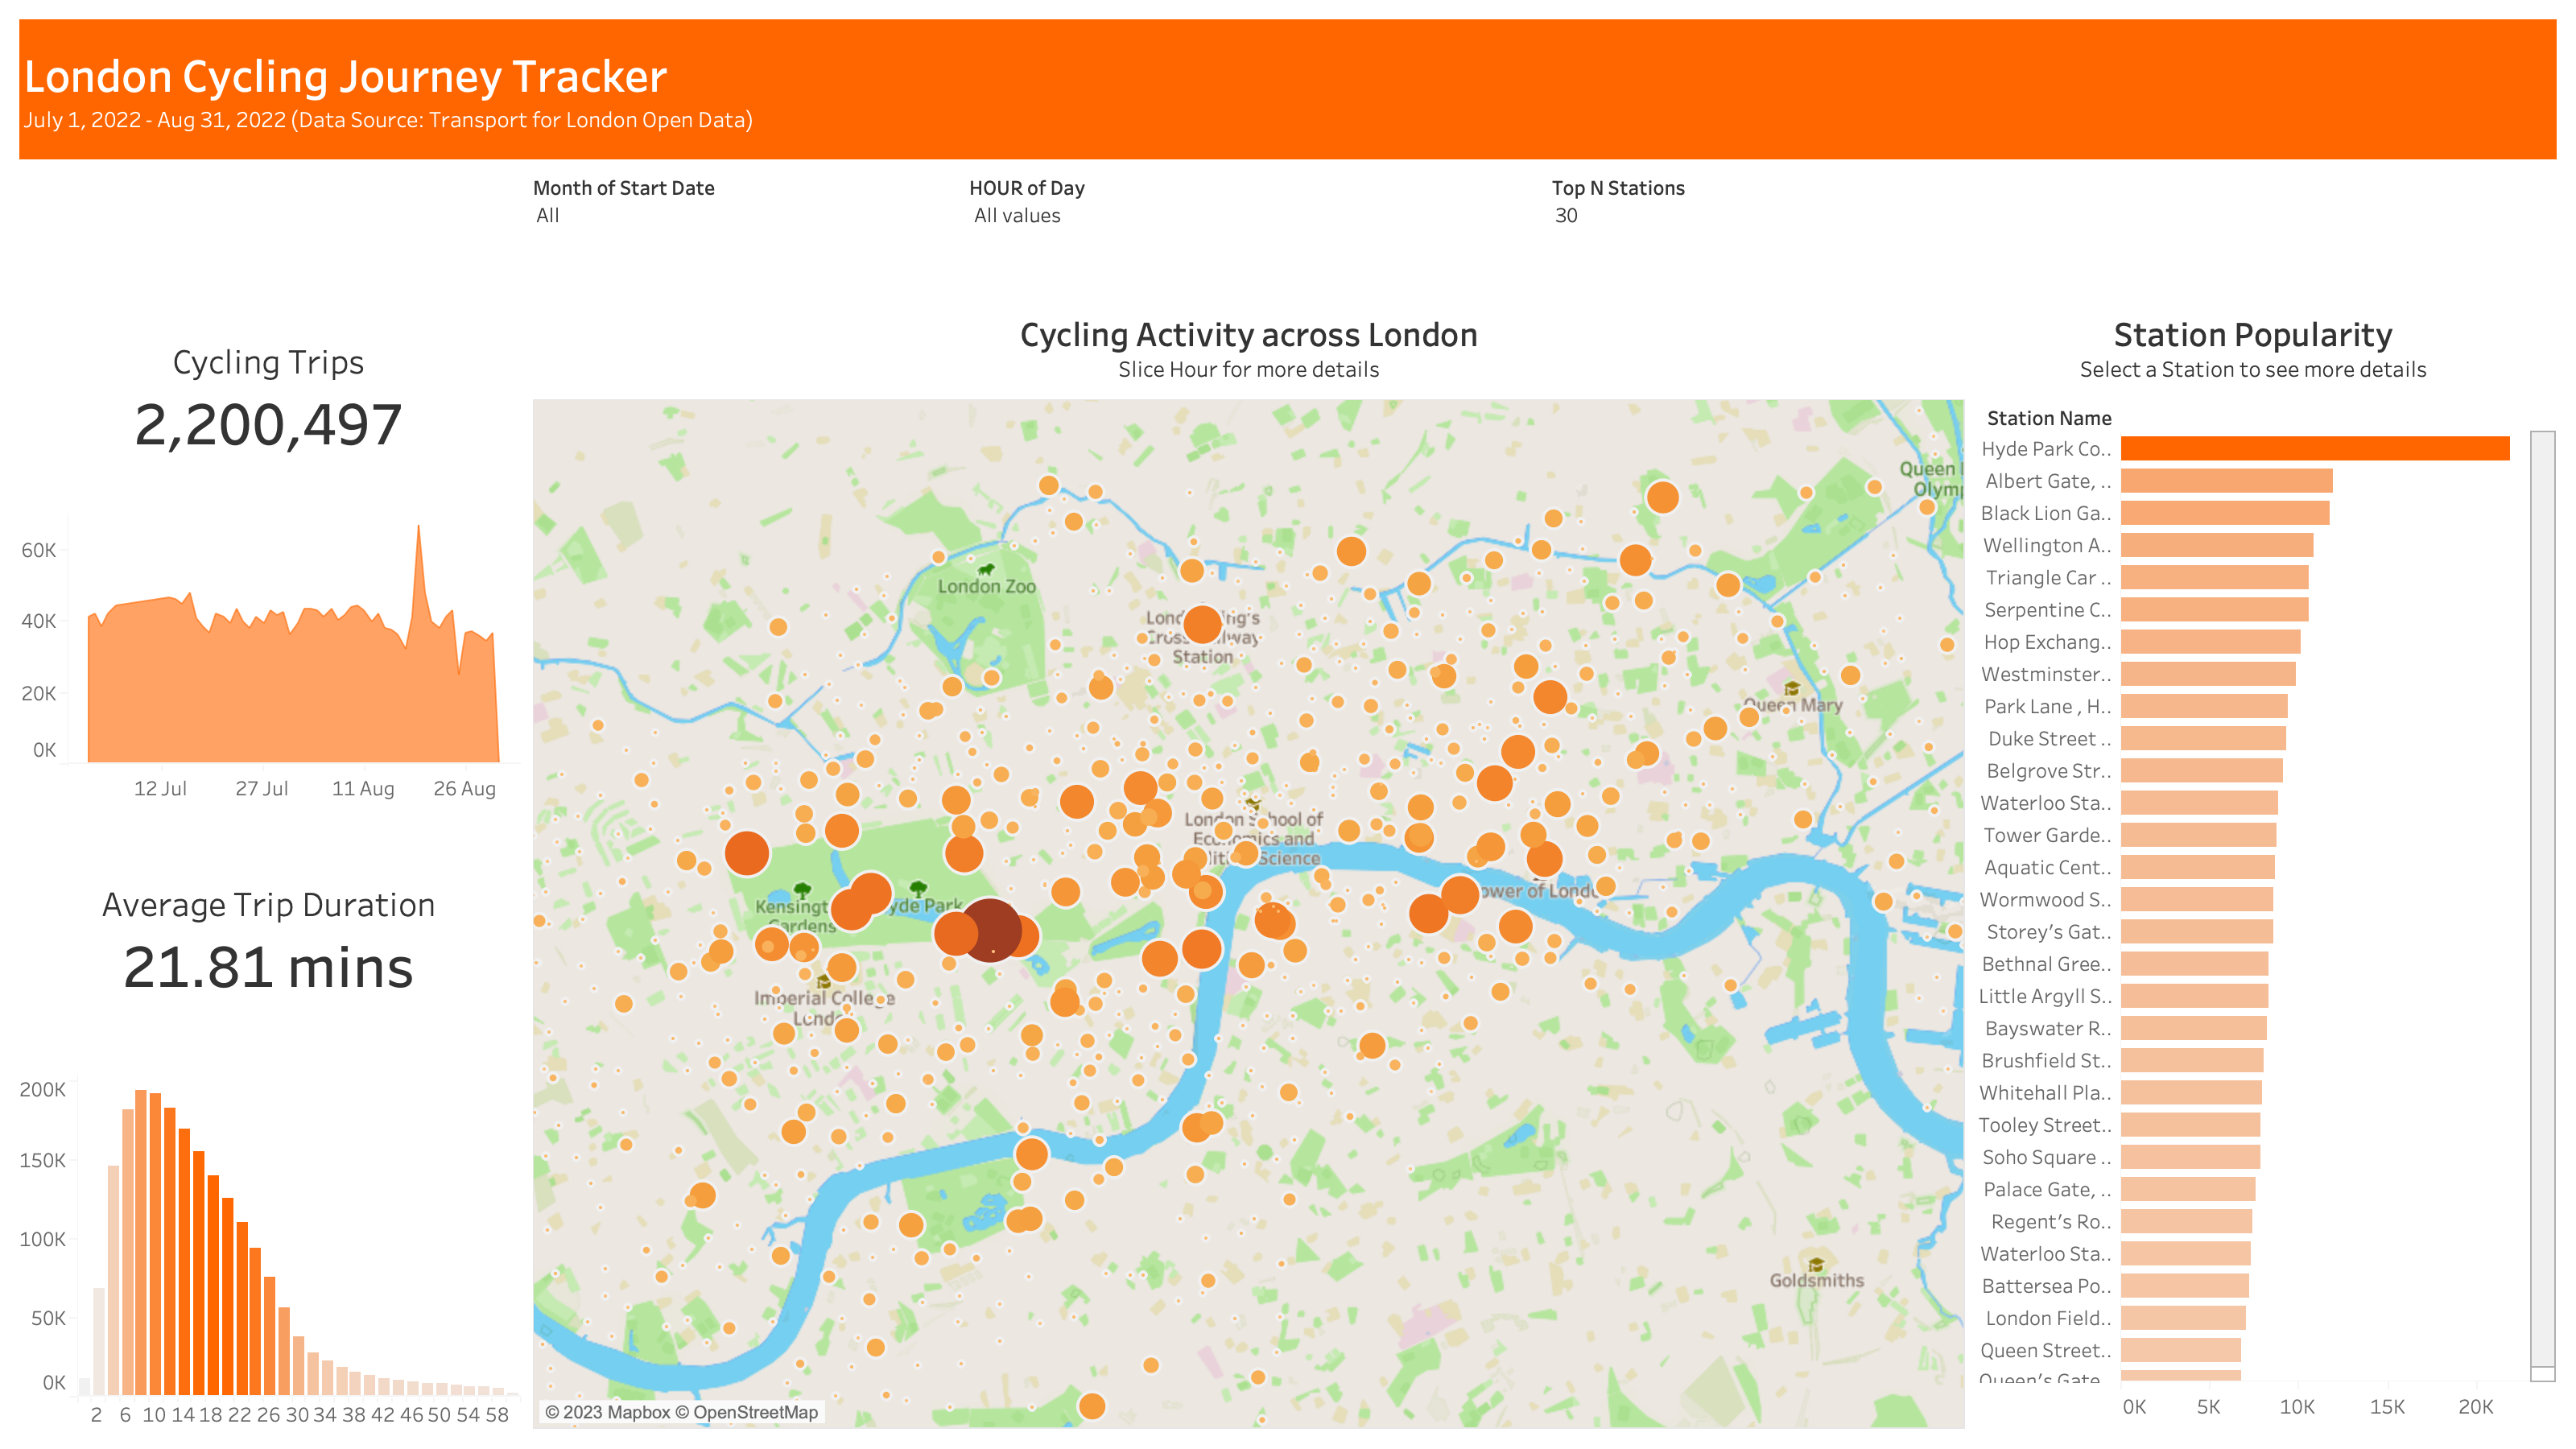

This screenshot's page, from the dashboard's own definition file:
{"tool":"tableau","page":{"name":"JourneyTracker","canvas":[1600,900],"ordinal":0},"visuals":[{"type":"text","box":[8,8,1584,95.2]},{"type":"blank","box":[8,103.2,319,79.8]},{"type":"filter","title":"#trips","param":"[federated.01xd8t103ziq5y0zm7rb51ypeqi0].[mn:Start Date:ok]","box":[327,103.2,271.2,79.8]},{"type":"filter","title":"Cycling_map","param":"[federated.01xd8t103ziq5y0zm7rb51ypeqi0].[hr:Start Date:qk]","box":[598.2,103.2,361.5,79.8]},{"type":"parameter","param":"[Parameters].[Parameter 1]","box":[959.7,103.2,265.6,79.8]},{"type":"blank","box":[1225.2,103.2,366.8,79.8]},{"type":"worksheet","title":"#tripstext","mark":"Automatic","box":[8,183,319,117]},{"type":"worksheet","title":"Cycling_map","mark":"Automatic","rows":["lat"],"cols":["long"],"box":[327,183,898.2,709]},{"type":"worksheet","title":"topStation","mark":"Automatic","rows":["station_name"],"cols":["journeysummerslice.csv_B4E85132000B4FAB8C3B4D19D1F8D8FE"],"box":[1225.2,183,366.8,709]},{"type":"worksheet","title":"#trips","mark":"Area","rows":["journeysummerslice.csv_B4E85132000B4FAB8C3B4D19D1F8D8FE"],"cols":["Start Date"],"box":[8,300,319,208]},{"type":"worksheet","title":"durationtext","mark":"Automatic","box":[8,508,319,140]},{"type":"worksheet","title":"duration","mark":"Automatic","rows":["journeysummerslice.csv_B4E85132000B4FAB8C3B4D19D1F8D8FE"],"cols":["DurationMin (bin)"],"box":[8,648,319,244]}]}

Visuals, with their boxes in screenshot pixels (x1, y1, x2, y2), scaled from the page's 1600x900 canvas onto the 2576x1449 screenshot:
text: [left=13, top=13, right=2563, bottom=166]
blank: [left=13, top=166, right=526, bottom=295]
"#trips" filter: [left=526, top=166, right=963, bottom=295]
"Cycling_map" filter: [left=963, top=166, right=1545, bottom=295]
parameter: [left=1545, top=166, right=1973, bottom=295]
blank: [left=1972, top=166, right=2563, bottom=295]
"#tripstext" worksheet: [left=13, top=295, right=526, bottom=483]
"Cycling_map" worksheet: [left=526, top=295, right=1972, bottom=1436]
"topStation" worksheet: [left=1972, top=295, right=2563, bottom=1436]
"#trips" worksheet (Area marks): [left=13, top=483, right=526, bottom=818]
"durationtext" worksheet: [left=13, top=818, right=526, bottom=1043]
"duration" worksheet: [left=13, top=1043, right=526, bottom=1436]
